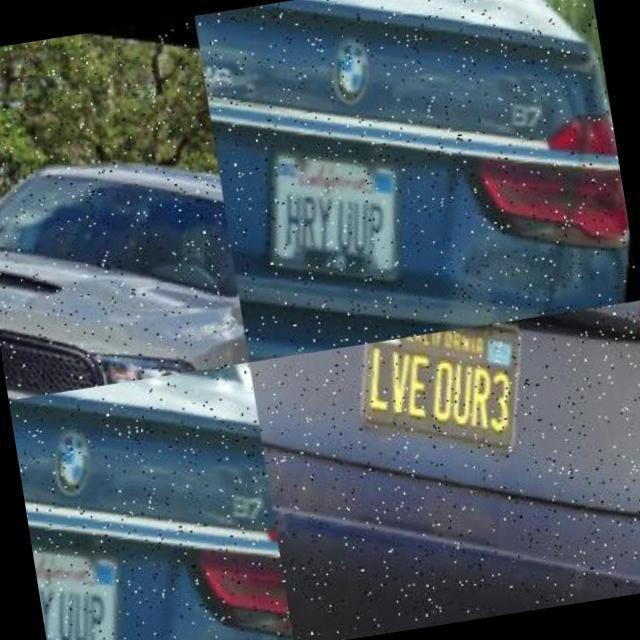license_plate: (340, 318, 544, 476), (246, 122, 419, 298), (29, 512, 140, 640)
